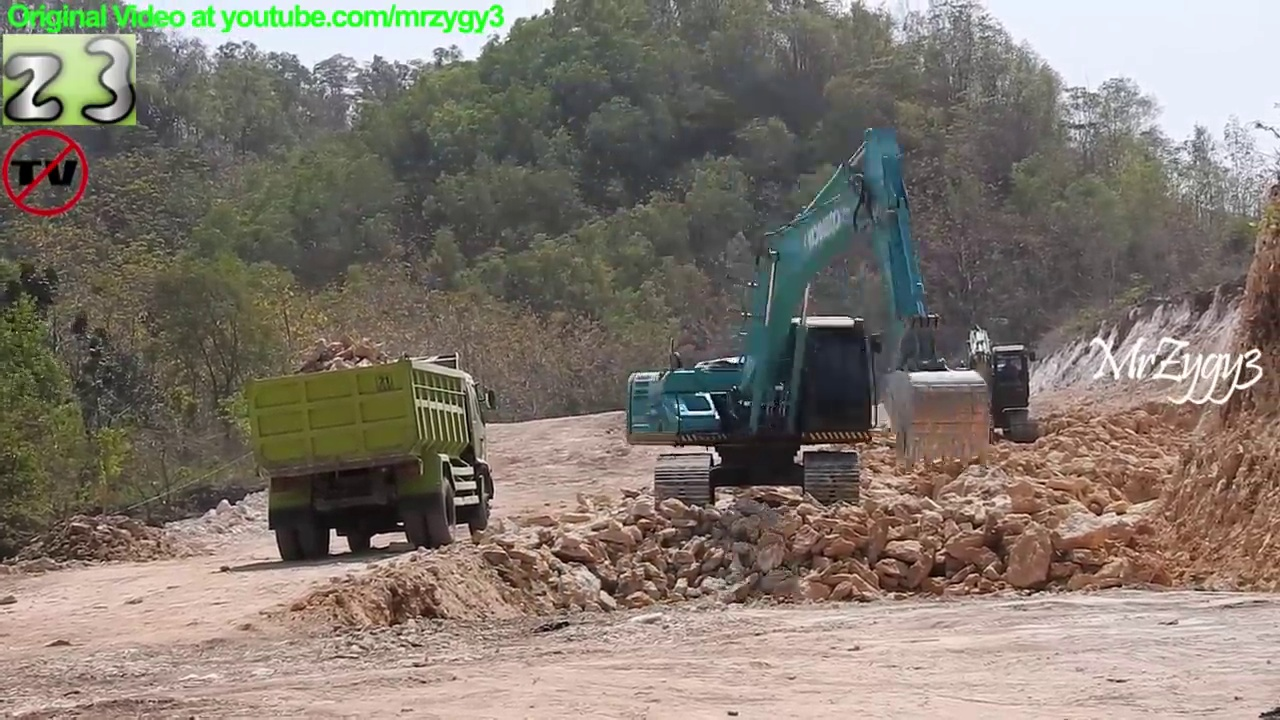excavator: (619, 121, 999, 519), (931, 314, 1048, 459)
truck: (241, 344, 506, 567)
